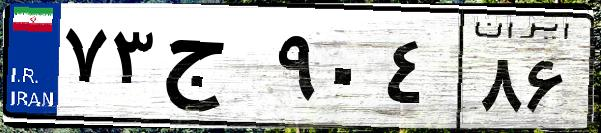0: (330, 28, 385, 110)
3: (110, 28, 158, 98)
4: (385, 28, 445, 110)
6: (525, 38, 570, 115)
7: (57, 26, 110, 100)
8: (475, 38, 525, 113)
9: (270, 28, 330, 110)
ج: (158, 20, 270, 120)
